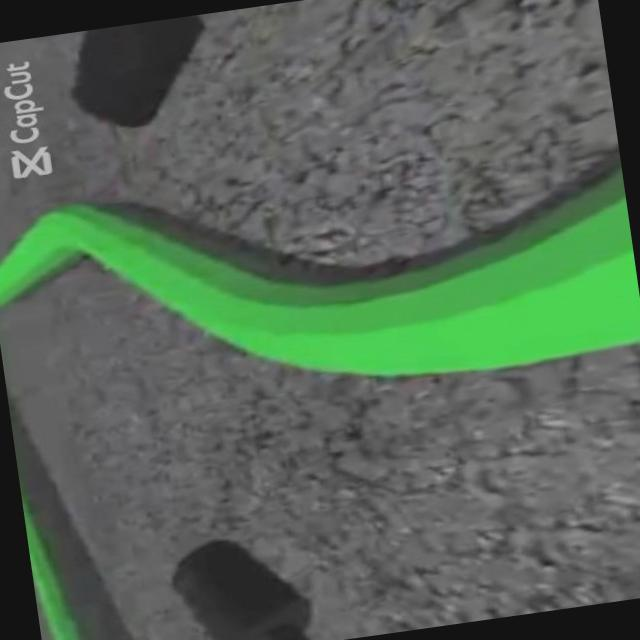gas: (0, 125, 640, 436)
